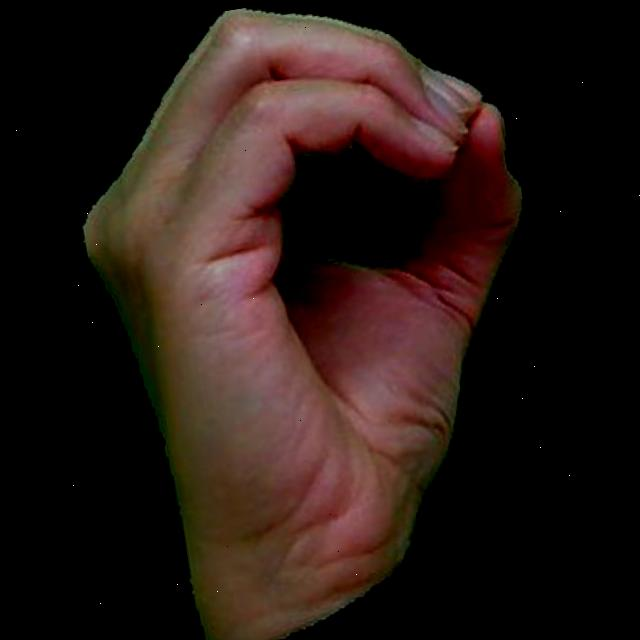o: (26, 0, 608, 640)
